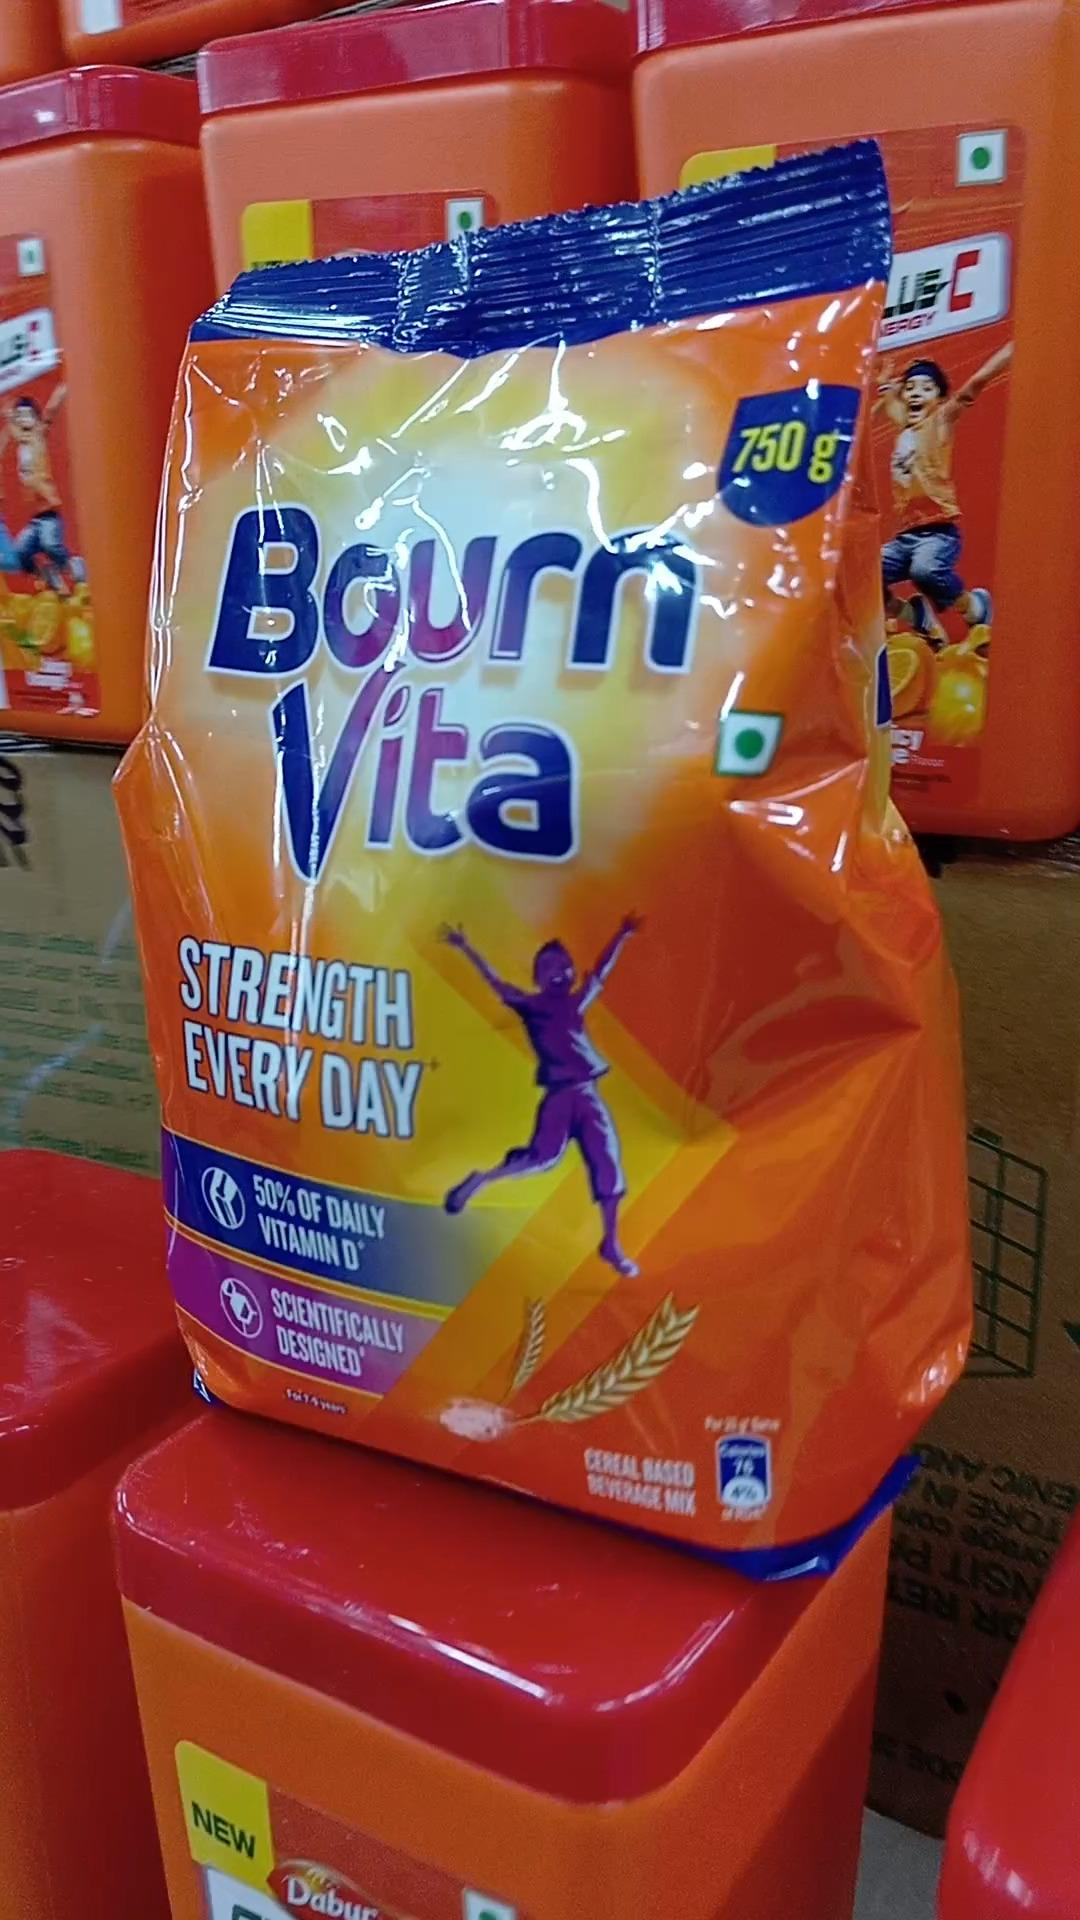BOURN_VITA_750_G_POUCH: (129, 218, 930, 1544)
